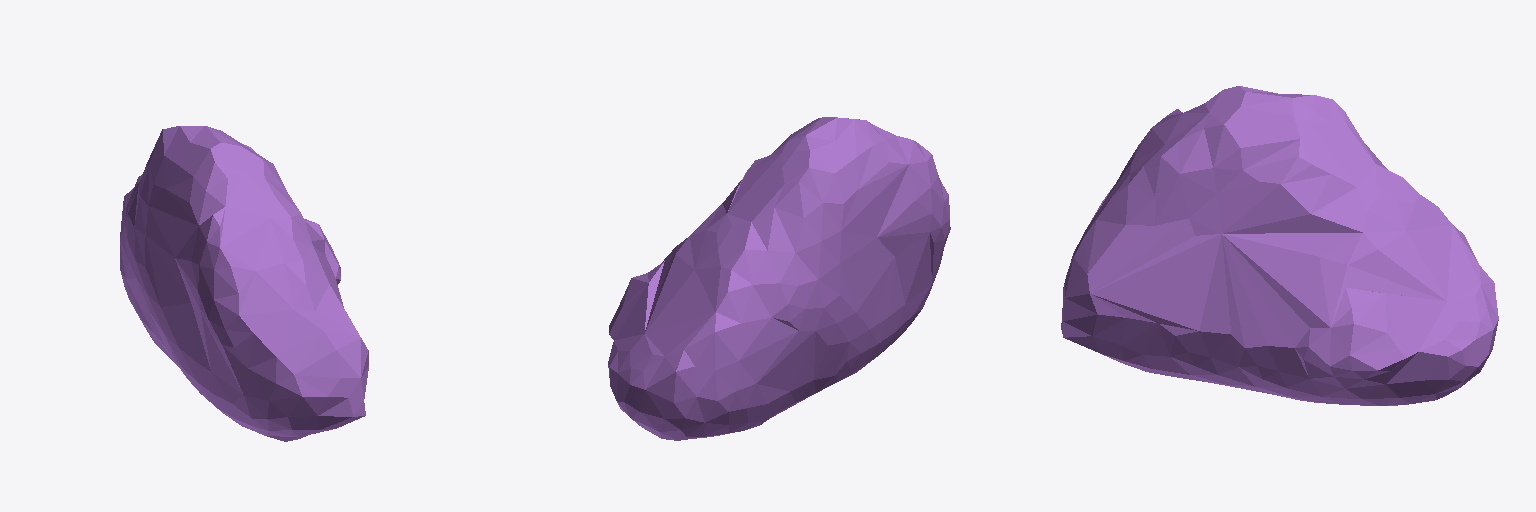
Rendered from Model_282_RH__Angular_thalamic_nucleus_(Ang).obj.
3 views of the same model, side by side, from view 1: azimuth 30°, elevation 25°; view 2: azimuth 150°, elevation 25°; view 3: azimuth 270°, elevation 25° (orthographic).
Bounding box in the file's own units: 0.7514 × 0.8971 × 1.28.